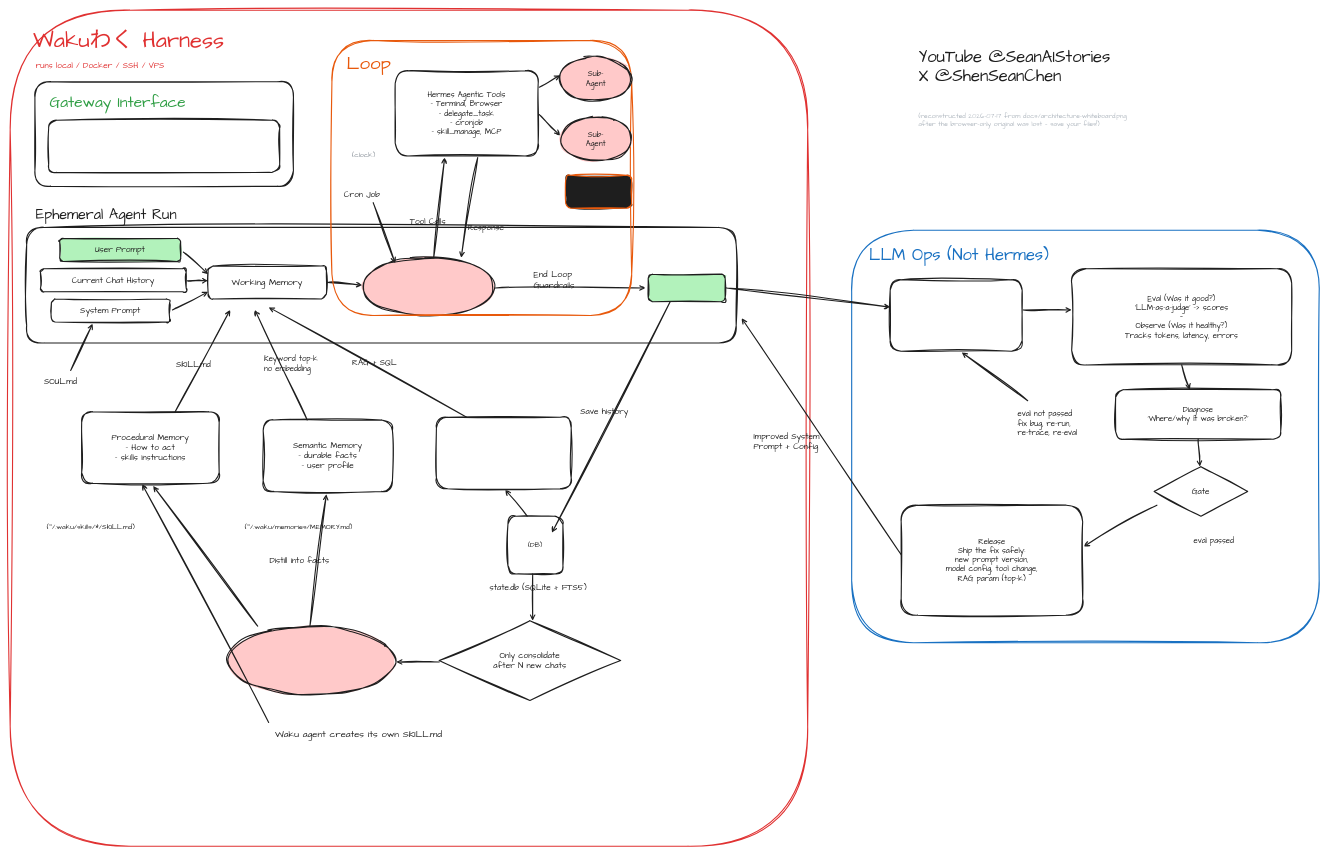
The diagram is 1329 pixels wide and 856 high, and some of its shapes have lost their labels. The centre of each missing label's shape, as x and y in pixels:
"CLAUDE CODE" belongs at [598,191].
"Episodic Memory - dated events - past chat history" belongs at [503,452].
"Hermes Agent (auxiliary models)" belongs at [311,660].
"LLM - Q&A Agent" belongs at [427,286].
"Reply" belongs at [686,287].
"Telegram · WhatsApp · Slack (logo images — paste from originals)" belongs at [164,146].
"Trace 1 trace per run (Waku: trajectory export / logs)" belongs at [955,315].
